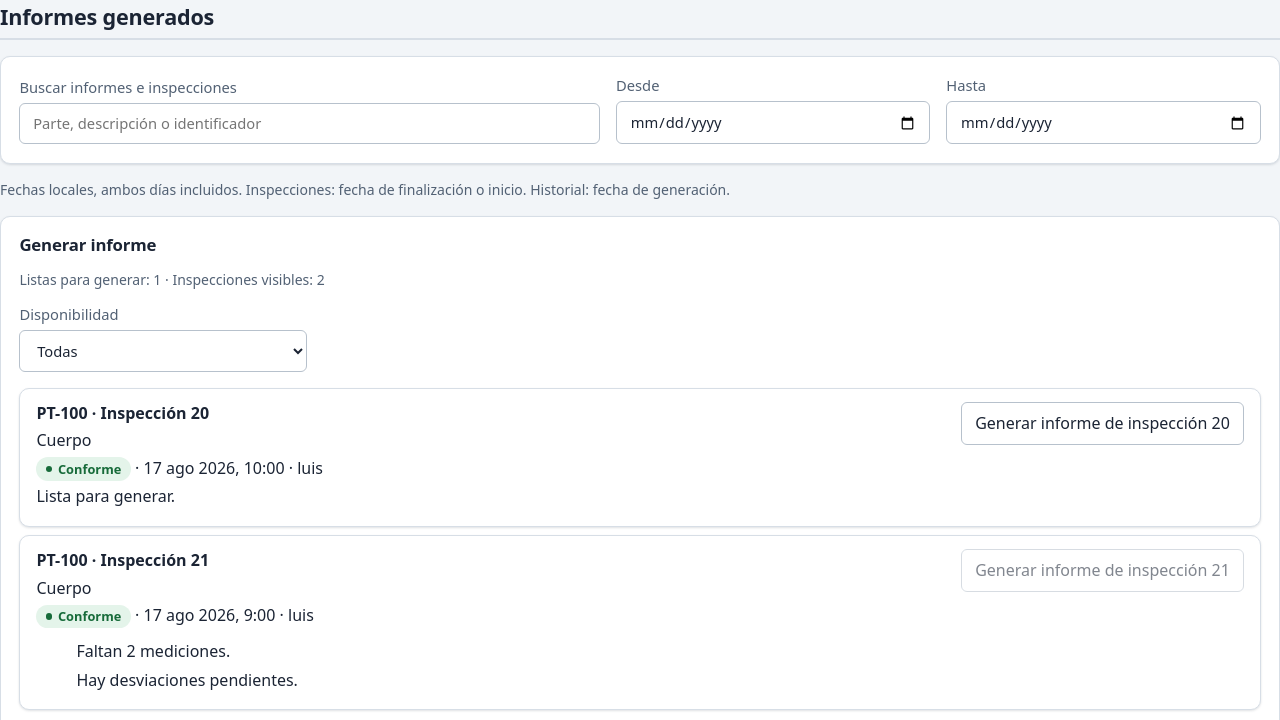
Test case: gates generation with a checklist and generates an eligible inspection
Expected: the button "Generar informe de inspección 21" is disabled, [961,550,1244,592]
Expected: the list item "Faltan 2 mediciones." is shown, [76,640,230,662]
Click the button "Generar informe de inspección 20".
click(1102, 424)  # box [961,402,1244,445]
(page scrolled)
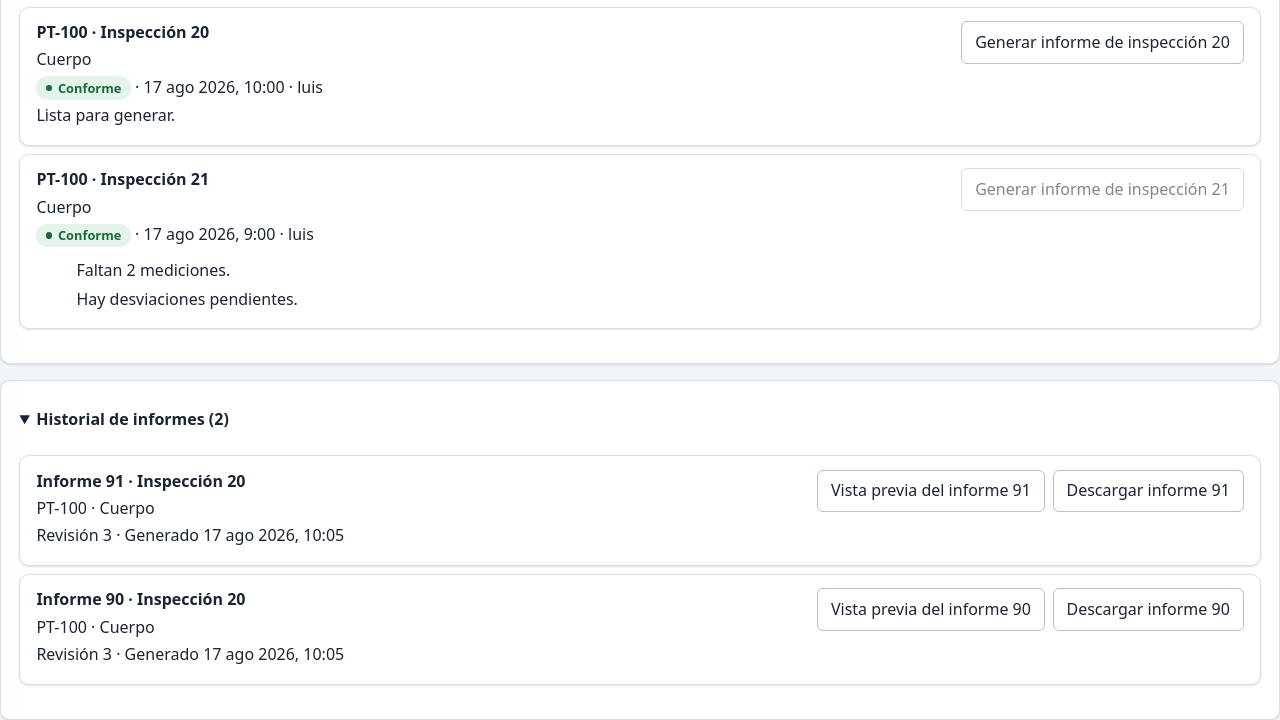
Expected: the text "Informe 91 · Inspección 20" is shown, [36,470,246,492]
